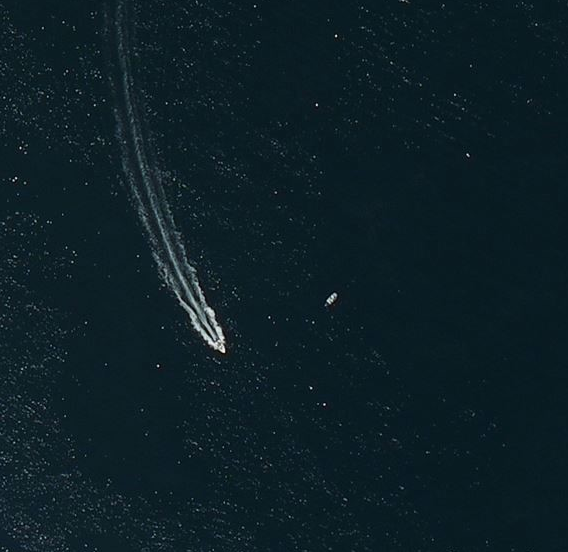ship: (207, 332, 231, 360), (319, 291, 345, 308)
